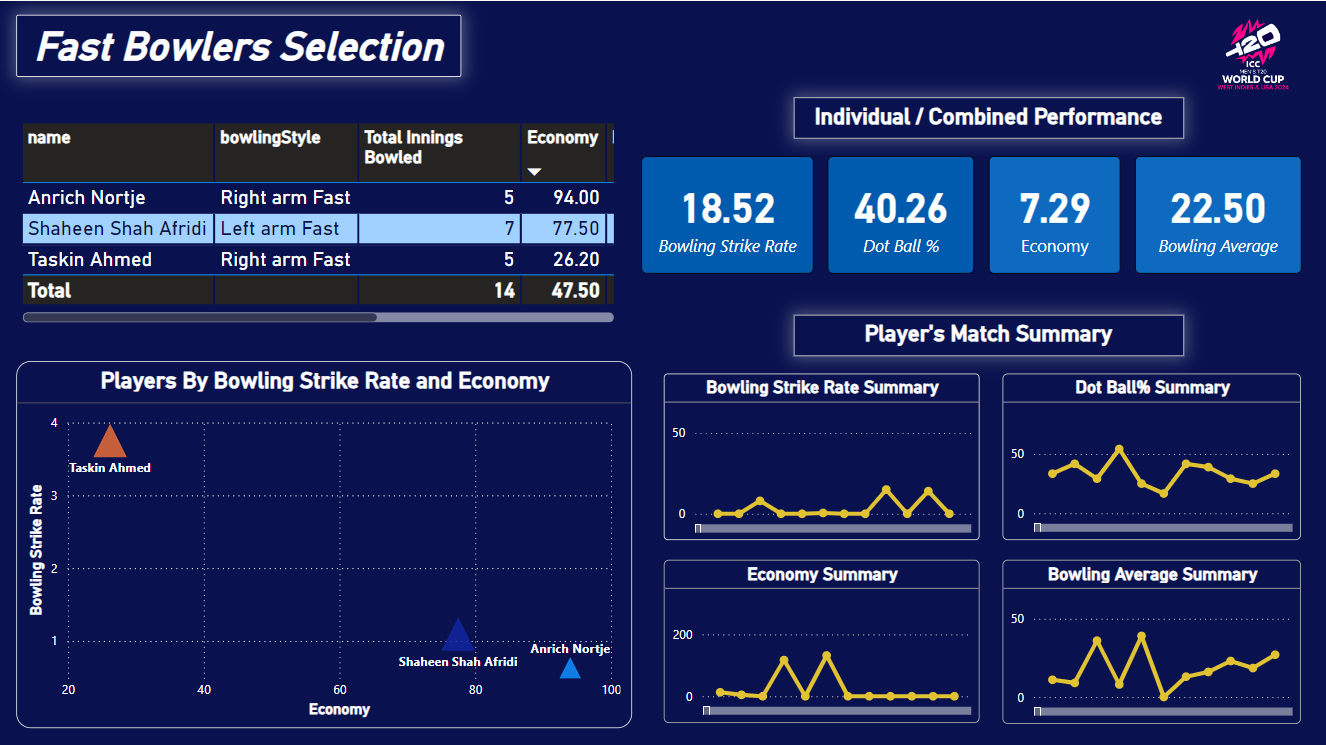

Layout of this report page (visuals, bound fields, positions):
{"tool":"powerbi","page":{"name":"Specialist Fast Bowler","canvas":[1280,720],"ordinal":4},"visuals":[{"type":"tableEx","fields":{"Values":["dimplayers.name","dimplayers.bowlingStyle","Key Measures.Total Innings Bowled","Key Measures.Economy","Key Measures.Bowling Strike Rate","Key Measures.Bowling Average","Key Measures.Dot Ball %"]},"box":[15.7,113.4,581.5,201.5],"z":0},{"type":"textbox","box":[766.1,92.9,376.4,39.8],"z":6001},{"type":"card","fields":{"Values":["Key Measures.Dot Ball %"]},"box":[798.5,149.2,141.8,113.7],"z":6002},{"type":"card","fields":{"Values":["Key Measures.Bowling Strike Rate"]},"box":[618.8,149.2,166.3,113.7],"z":6003},{"type":"card","fields":{"Values":["Key Measures.Economy"]},"box":[953.8,149.2,127.2,113.7],"z":6004},{"type":"card","fields":{"Values":["Key Measures.Bowling Average"]},"box":[1095.4,149.6,160.5,113.4],"z":6005},{"type":"image","box":[1150.9,0,117,102.5],"z":6006},{"type":"textbox","box":[15.7,13.3,429.5,60.3],"z":6007},{"type":"scatterChart","title":"Players By Bowling Strike Rate and Economy","fields":{"X":["Key Measures.Economy"],"Y":["Key Measures.Bowling Strike Rate"],"Category":["dimplayers.name"]},"box":[15.7,347.5,594.8,354.7],"z":6008},{"type":"textbox","box":[766.1,302.8,376.4,39.8],"z":6009},{"type":"lineChart","title":"Bowling Strike Rate Summary","fields":{"Category":["dimMatchSummary.match_id","dimplayers.name"],"Y":["Key Measures.Bowling Strike Rate"]},"box":[640.1,359.4,304.9,160.9],"z":6010},{"type":"lineChart","title":"Dot Ball% Summary","fields":{"Category":["dimMatchSummary.match_id","dimplayers.name"],"Y":["Key Measures.Dot Ball %"]},"box":[967.6,359.5,288.3,160.5],"z":6011},{"type":"lineChart","title":"Economy Summary","fields":{"Category":["dimplayers.name","dimMatchSummary.match_id"],"Y":["Key Measures.Economy"]},"box":[640.1,539.7,304.9,157.3],"z":6012},{"type":"lineChart","title":"Bowling Average Summary","fields":{"Category":["dimMatchSummary.match_id","dimplayers.name"],"Y":["Key Measures.Bowling Average"]},"box":[967.6,539.3,288.3,158],"z":6013}]}

Visuals, with their boxes in screenshot pixels (x1, y1, x2, y2), scaled from the page's 1280x720 canvas onto the 1326x745 screenshot:
tableEx - dimplayers.name x dimplayers.bowlingStyle: <bbox>16, 117, 619, 326</bbox>
textbox: <bbox>794, 96, 1184, 137</bbox>
card - Key Measures.Dot Ball %: <bbox>827, 154, 974, 272</bbox>
card - Key Measures.Bowling Strike Rate: <bbox>641, 154, 813, 272</bbox>
card - Key Measures.Economy: <bbox>988, 154, 1120, 272</bbox>
card - Key Measures.Bowling Average: <bbox>1135, 155, 1301, 272</bbox>
image: <bbox>1192, 0, 1313, 106</bbox>
textbox: <bbox>16, 14, 461, 76</bbox>
"Players By Bowling Strike Rate and Economy" scatterChart: <bbox>16, 360, 632, 727</bbox>
textbox: <bbox>794, 313, 1184, 354</bbox>
"Bowling Strike Rate Summary" lineChart: <bbox>663, 372, 979, 538</bbox>
"Dot Ball% Summary" lineChart: <bbox>1002, 372, 1301, 538</bbox>
"Economy Summary" lineChart: <bbox>663, 558, 979, 721</bbox>
"Bowling Average Summary" lineChart: <bbox>1002, 558, 1301, 722</bbox>
